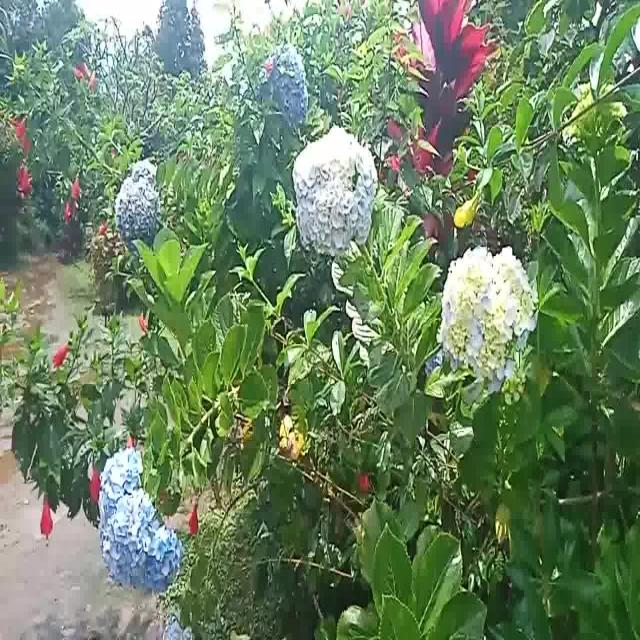Flower: (103, 448, 185, 588), (297, 127, 377, 251), (265, 33, 311, 123), (115, 154, 164, 237), (51, 333, 72, 374), (38, 490, 53, 546), (85, 462, 101, 502), (187, 499, 201, 541)
